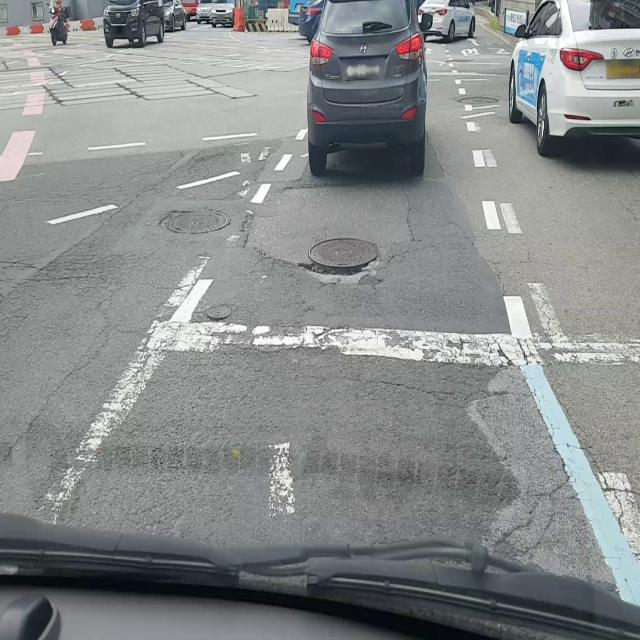Pothole: (295, 236, 380, 278)
